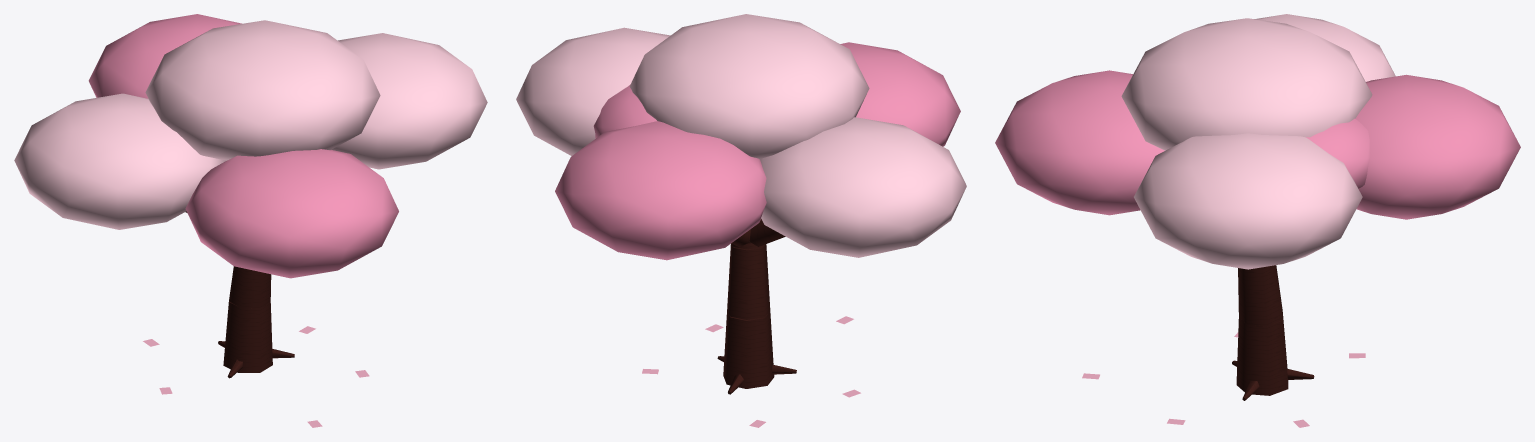
Rendered from sakura-bloom.glb.
The picture shows the model from 3 angles, left to right: view 1: azimuth 30°, elevation 25°; view 2: azimuth 150°, elevation 25°; view 3: azimuth 270°, elevation 25°; orthographic projection. The views are drawn at different scales.
Parts seen in each view (by area): view 1: Merged_foliage-light, Merged_foliage, Merged_bark; view 2: Merged_foliage-light, Merged_foliage, Merged_bark, Merged_sakura-petal; view 3: Merged_foliage-light, Merged_foliage, Merged_bark.
Boxes of the visible parts, x1,y1,x2,y2 form: Merged_foliage-light: (14, 20, 487, 229); Merged_foliage: (88, 14, 398, 278); Merged_bark: (185, 211, 294, 378); Merged_foliage-light: (516, 14, 966, 257); Merged_foliage: (555, 42, 960, 260); Merged_bark: (717, 219, 796, 394); Merged_sakura-petal: (642, 316, 860, 427); Merged_foliage-light: (1121, 14, 1395, 269); Merged_foliage: (995, 70, 1520, 219); Merged_bark: (1232, 265, 1314, 400).
Size of what is drawn, in the model's own units: 5.03 by 3.7 by 5.01.
4 materials, 1 textured.
